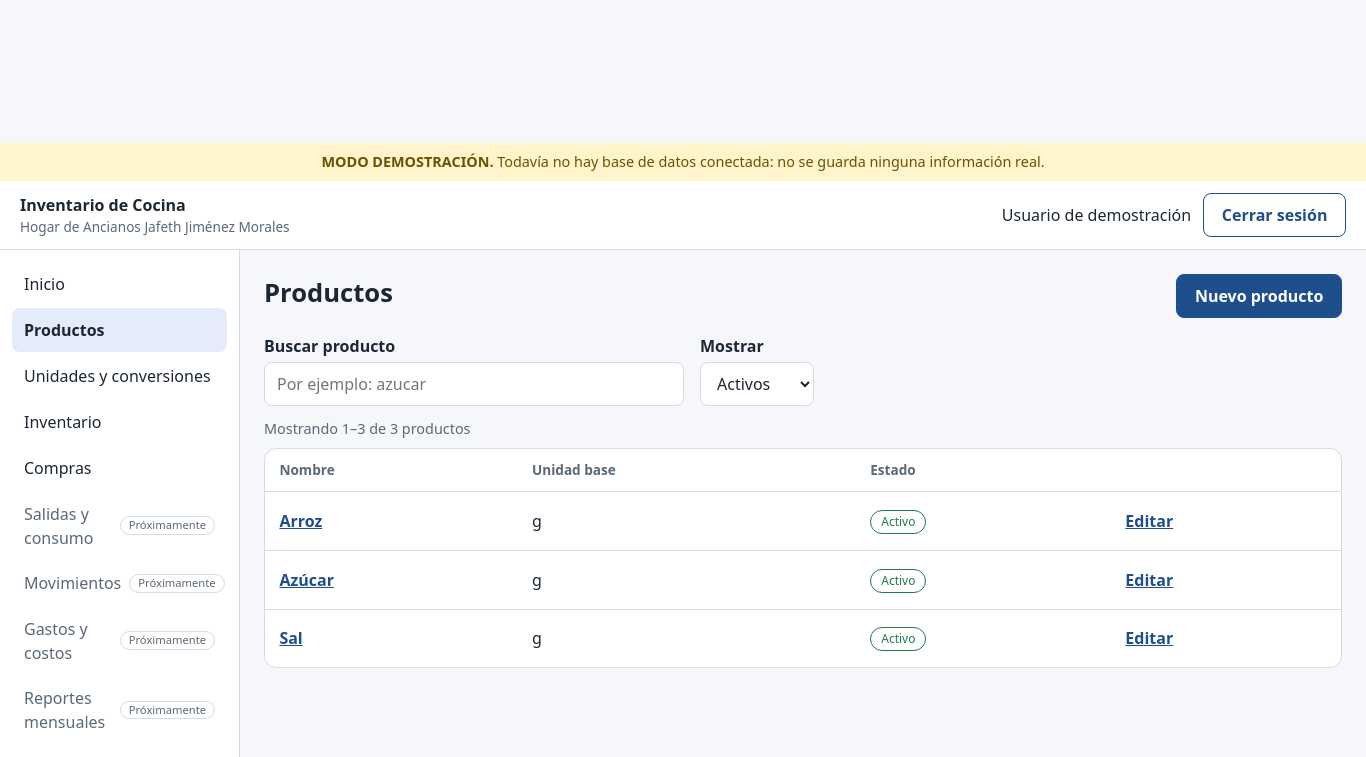
Test: lista de productos › buscar azucar encuentra Azúcar mientras se escribe, y avisa cuando no hay resultados
(page scrolled)
Expected: the link "Arroz" is shown, [279, 504, 322, 539]
Step 1. Type "azucar" into the search field labelled "Buscar producto" → (474, 384), box [264, 362, 684, 406]
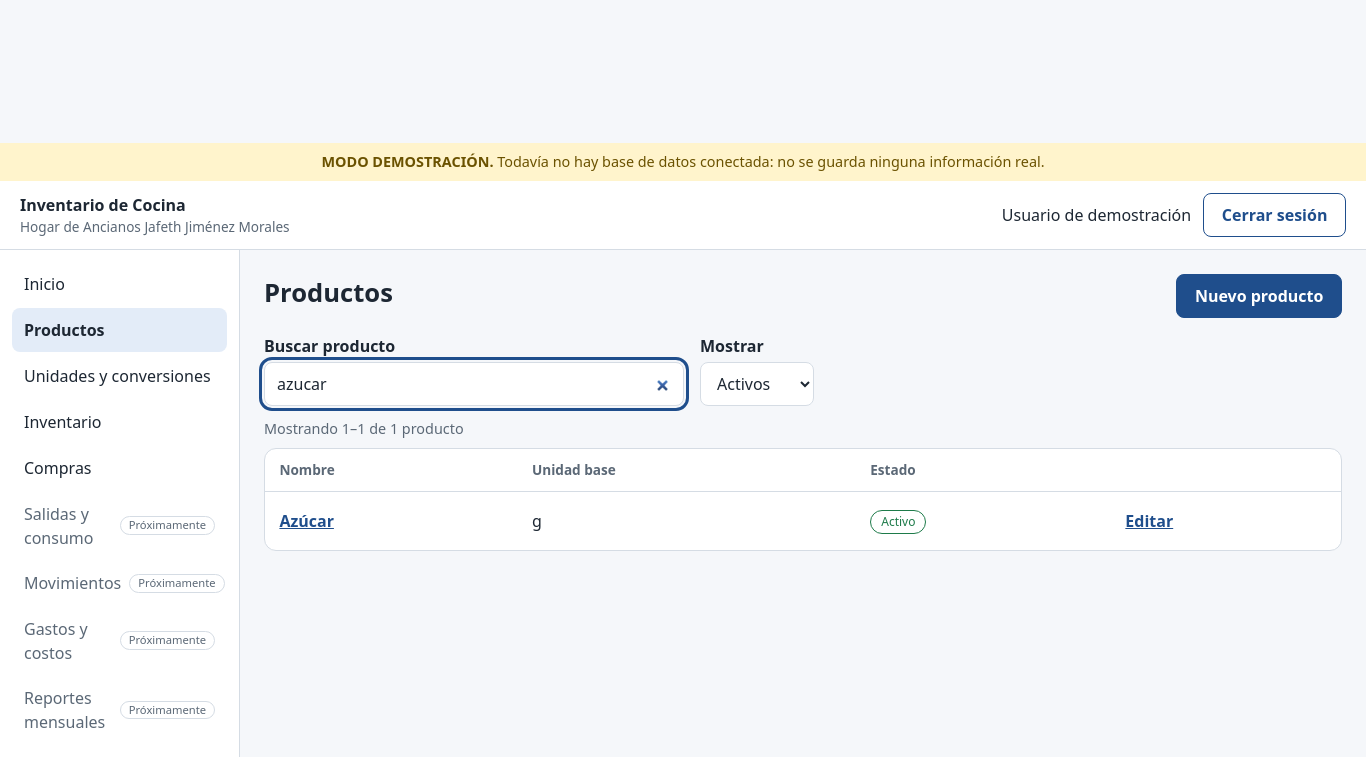
Step 2. Replace the text in the search field labelled "Buscar producto" with "zzz" → (474, 384), box [264, 362, 684, 406]
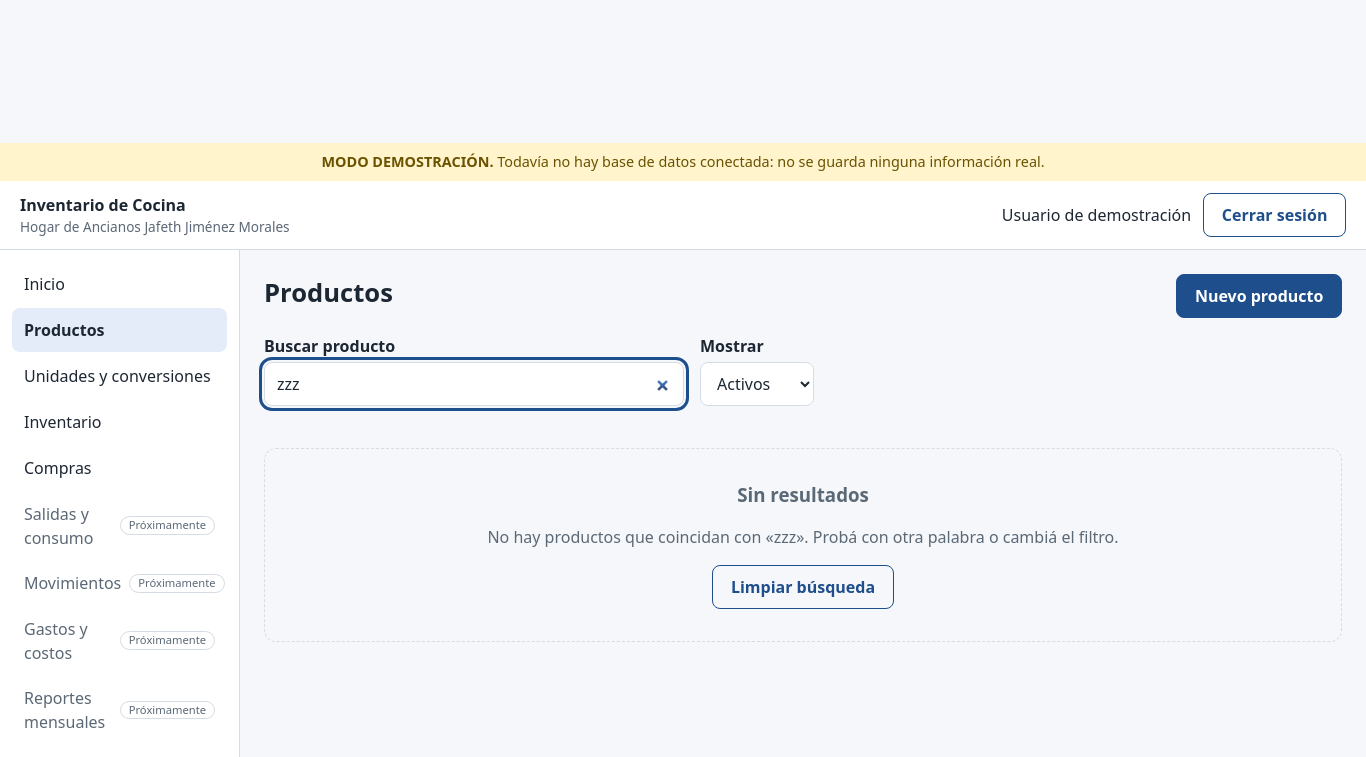
Result: the heading "Sin resultados" is shown at [737, 482, 869, 507]
Result: the text "No hay productos que coincidan con «zzz»" is shown at [487, 526, 1118, 548]
Step 3. Click the button "Limpiar búsqueda" → click(803, 587), box [712, 565, 894, 609]
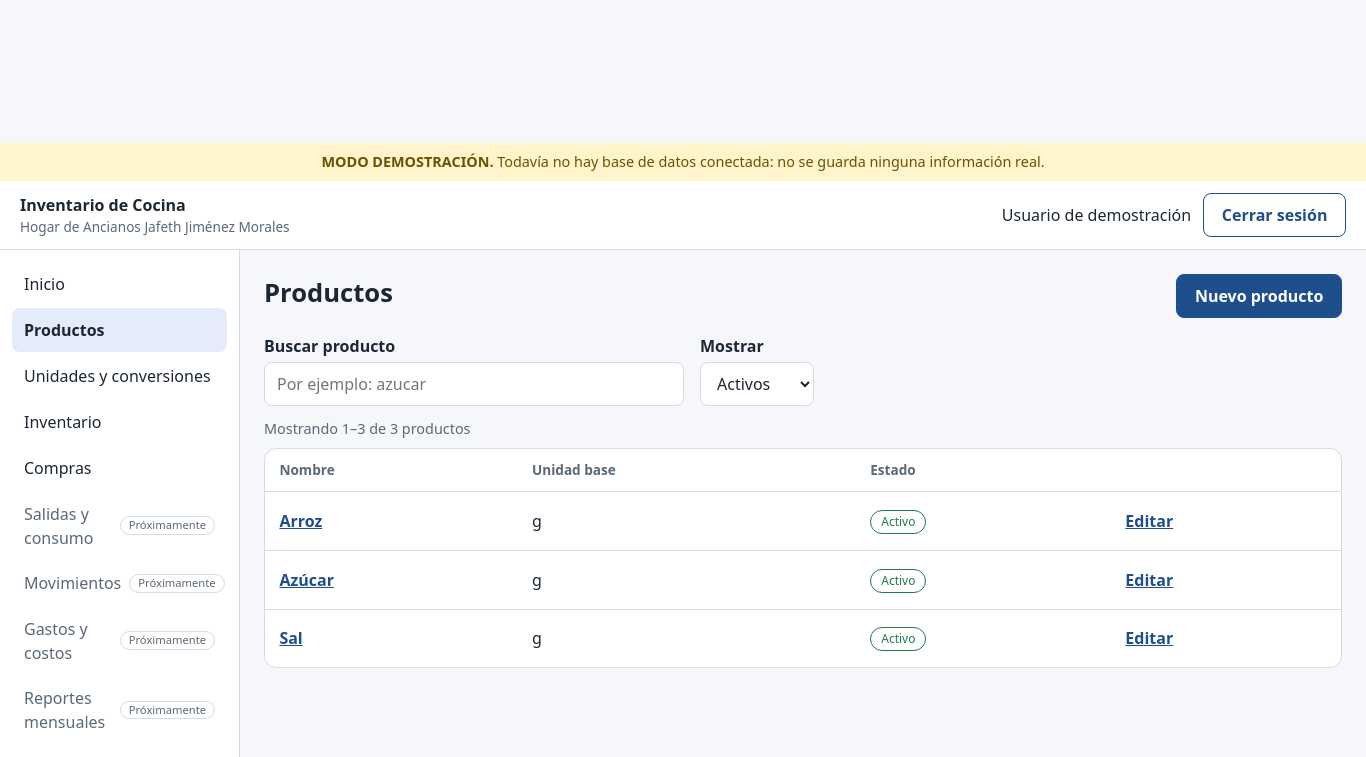
Result: the link "Sal" is shown at [279, 621, 303, 656]
